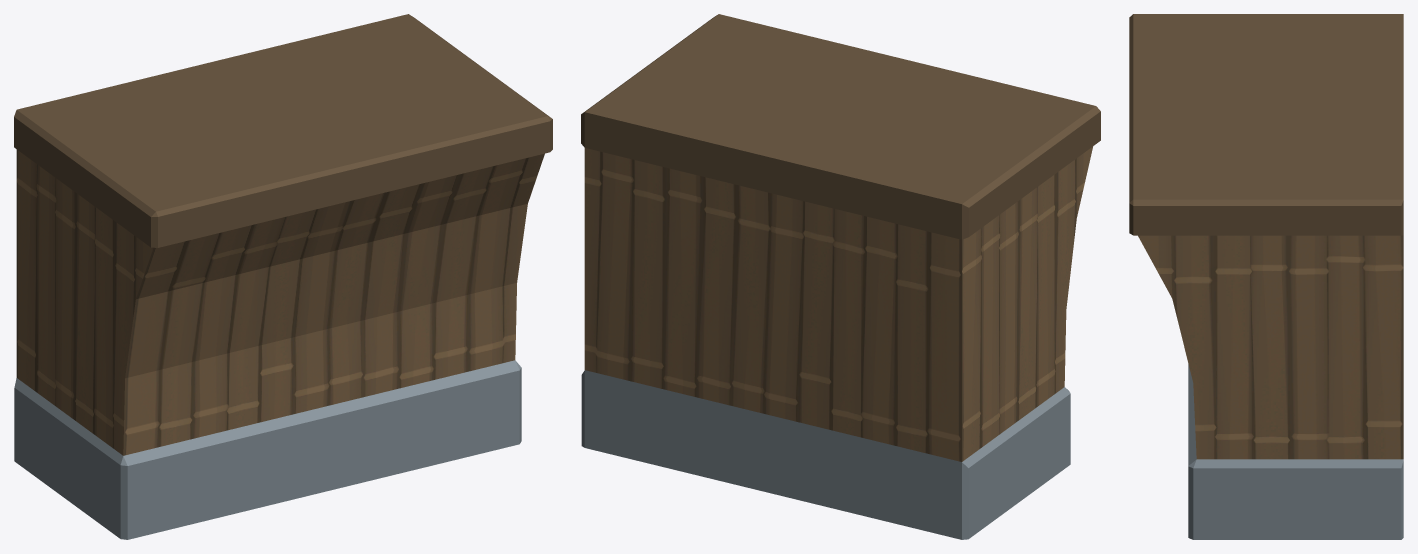
File: SM_Prop_Bar_01.001.obj
3 renders of one model, left to right at view 1: azimuth 30°, elevation 25°; view 2: azimuth 150°, elevation 25°; view 3: azimuth 270°, elevation 25°, orthographic. The views are drawn at different scales.
Parts seen in each view (by area): view 1: SM_Prop_Bar_01.001_0, SM_Prop_Bar_01.001_1; view 2: SM_Prop_Bar_01.001_1, SM_Prop_Bar_01.001_0; view 3: SM_Prop_Bar_01.001_0, SM_Prop_Bar_01.001_1.
Part boxes in pixels (bbox=[...]): SM_Prop_Bar_01.001_0: bbox=[14, 14, 552, 539]; SM_Prop_Bar_01.001_1: bbox=[16, 149, 544, 455]; SM_Prop_Bar_01.001_1: bbox=[584, 146, 1092, 461]; SM_Prop_Bar_01.001_0: bbox=[581, 14, 1100, 539]; SM_Prop_Bar_01.001_0: bbox=[1129, 14, 1403, 539]; SM_Prop_Bar_01.001_1: bbox=[1138, 235, 1403, 459].
Bounding box in the file's own units: 1.28 × 1.06 × 0.7815.
Materials: 2 (2 with a texture image).
